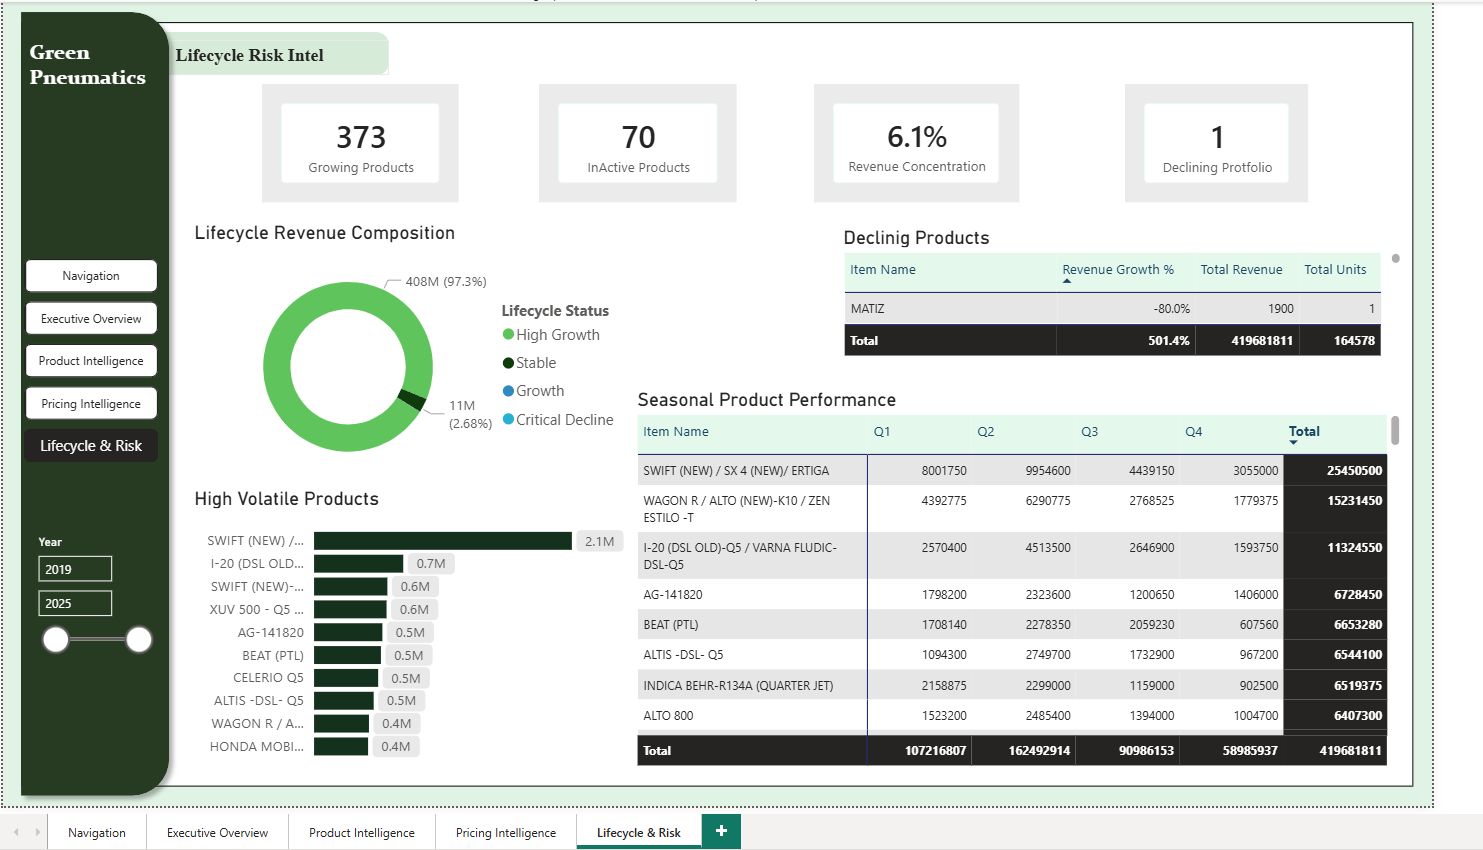

What the dashboard file says about the page in this screenshot:
{"tool":"powerbi","page":{"name":"Lifecycle & Risk","canvas":[1280,720],"ordinal":4},"visuals":[{"type":"shape","box":[16,18.1,1246.9,684.8],"z":0},{"type":"cardVisual","fields":{"Data":["Master Sales Database.Growing Products"]},"box":[231.5,73.6,176.4,106],"z":1000},{"type":"cardVisual","fields":{"Data":["Master Sales Database.Declining Products"]},"box":[1005.2,73.6,164.5,106],"z":2000},{"type":"cardVisual","fields":{"Data":["Master Sales Database.Dead Products"]},"box":[480.4,73.6,177.4,106],"z":3000},{"type":"cardVisual","fields":{"Data":["Master Sales Database.Top Product Contribution"]},"box":[726,73.6,183.9,106],"z":4000},{"type":"donutChart","title":"Lifecycle Revenue Composition","fields":{"Category":["Product Summary.Lifecycle Status"],"Y":["Sum(Product Summary.Revenue)"]},"box":[166.3,196.5,396.8,242.2],"z":5000},{"type":"tableEx","title":"Declinig Products","fields":{"Values":["Master Sales Database.Item Name","Master Sales Database.Revenue Growth %","Master Sales Database.Total Revenue","Master Sales Database.Total Units"]},"box":[747.7,200.2,508.5,121.2],"z":6000},{"type":"barChart","title":"High Volatile Products","fields":{"Category":["Master Sales Database.Item Name"],"Y":["Master Sales Database.Revenue Volatility"]},"box":[166.3,434.8,396.8,253.9],"z":7000},{"type":"pivotTable","title":"Seasonal Product Performance","fields":{"Rows":["Master Sales Database.Item Name"],"Columns":["Master Sales Database.Quarter"],"Values":["Master Sales Database.Total Revenue"]},"box":[563.7,345.8,692.6,343],"z":8000},{"type":"shape","box":[30.3,26.5,315.5,38.8],"z":9000},{"type":"textbox","box":[149.7,34.1,196.1,31.3],"z":10000},{"type":"shape","box":[6.8,0,150.8,719.8],"z":11000},{"type":"textbox","box":[18.9,27.5,127.9,71.1],"z":12000},{"type":"pageNavigator","box":[19,230.2,120.3,183],"z":13000},{"type":"slicer","fields":{"Values":["Master Sales Database.Year"]},"box":[18.9,471.8,124.1,131.7],"z":14000}]}

Visuals, with their boxes on the page's 1280x720 design canvas (x1, y1, x2, y2). These are canvas units, not pixel positions in the 1483x850 screenshot, which may show the page scaled, cropped or inside an application window:
shape: 16/18/1263/703
cardVisual - Master Sales Database.Growing Products: 232/74/408/180
cardVisual - Master Sales Database.Declining Products: 1005/74/1170/180
cardVisual - Master Sales Database.Dead Products: 480/74/658/180
cardVisual - Master Sales Database.Top Product Contribution: 726/74/910/180
"Lifecycle Revenue Composition" donutChart: 166/196/563/439
"Declinig Products" tableEx: 748/200/1256/321
"High Volatile Products" barChart: 166/435/563/689
"Seasonal Product Performance" pivotTable: 564/346/1256/689
shape: 30/26/346/65
textbox: 150/34/346/65
shape: 7/0/158/720
textbox: 19/28/147/99
pageNavigator: 19/230/139/413
slicer - Master Sales Database.Year: 19/472/143/604
